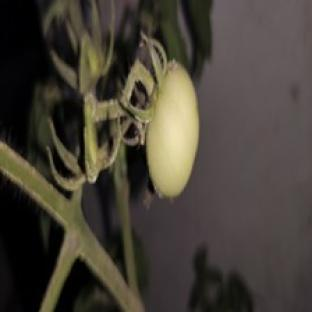Tomato: (147, 62, 199, 197)
